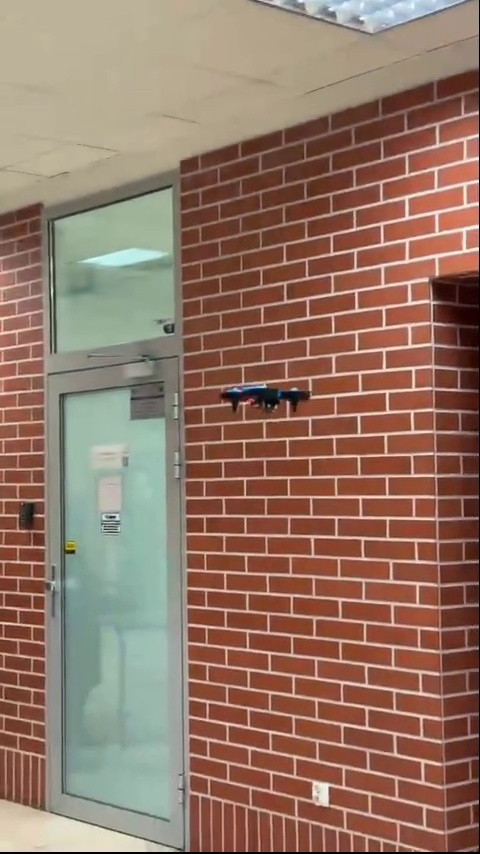drone: (219, 382, 314, 412)
